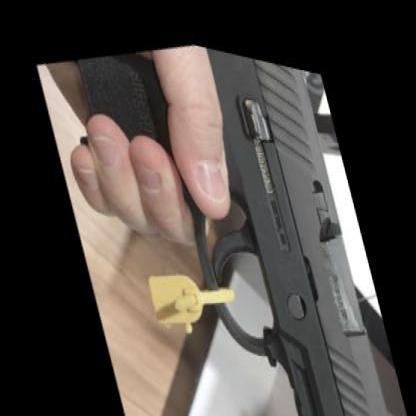pistol: (53, 9, 409, 413)
